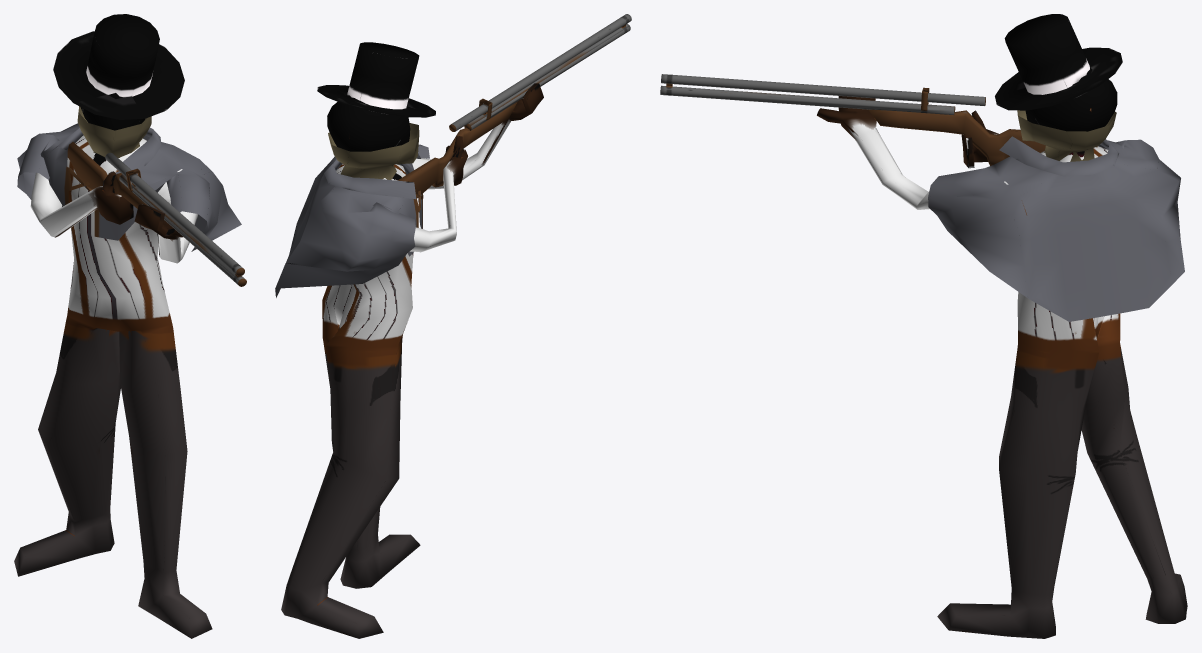
The model's file is Nod_0.obj.
3 views of the same model, side by side, from view 1: azimuth 30°, elevation 25°; view 2: azimuth 150°, elevation 25°; view 3: azimuth 270°, elevation 25° (orthographic). The views are drawn at different scales.
Visible parts, largest first — view 1: Body_Cube.007, Hat_Cylinder.001, Cloak_Cube.006, Rifle_Cube_Cube_Wood, Scarf_Cube.008; view 2: Body_Cube.007, Cloak_Cube.006, Rifle_Cube_Cube_Wood, Hat_Cylinder.001, Scarf_Cube.008; view 3: Body_Cube.007, Cloak_Cube.006, Rifle_Cube_Cube_Wood, Hat_Cylinder.001, Scarf_Cube.008.
Boxes of the visible parts, box(x1,y1,x2,y2) form: Body_Cube.007: box(14, 93, 212, 638); Hat_Cylinder.001: box(53, 14, 184, 119); Cloak_Cube.006: box(17, 123, 241, 251); Rifle_Cube_Cube_Wood: box(67, 142, 246, 286); Scarf_Cube.008: box(77, 106, 151, 157); Body_Cube.007: box(281, 83, 543, 638); Cloak_Cube.006: box(275, 144, 429, 297); Rifle_Cube_Cube_Wood: box(397, 14, 631, 198); Hat_Cylinder.001: box(317, 42, 435, 117); Scarf_Cube.008: box(328, 123, 419, 179); Body_Cube.007: box(817, 66, 1187, 638); Cloak_Cube.006: box(928, 136, 1184, 321); Rifle_Cube_Cube_Wood: box(660, 74, 1097, 165); Hat_Cylinder.001: box(995, 14, 1122, 110); Scarf_Cube.008: box(1017, 110, 1116, 161).
Size of the model in its own units: 1.9 by 5.78 by 4.64.
